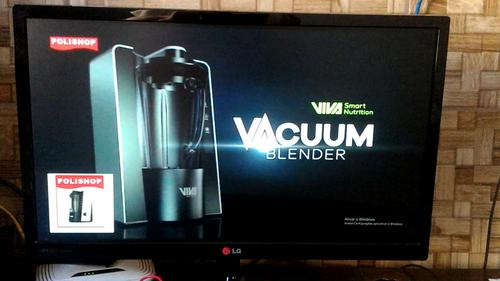Polishop #1: (47, 173, 114, 233)
